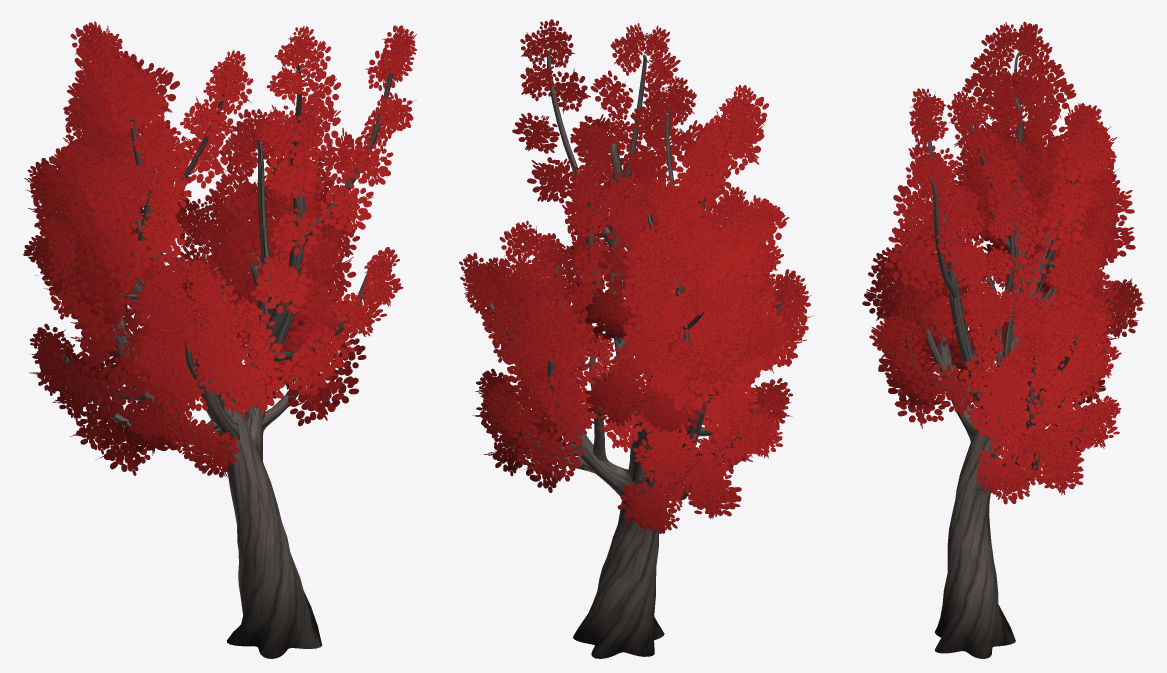
Rendered from twisted_tree.glb.
The picture shows the model from 3 angles, left to right: view 1: azimuth 30°, elevation 25°; view 2: azimuth 150°, elevation 25°; view 3: azimuth 270°, elevation 25°; orthographic projection. The views are drawn at different scales.
Visible parts, largest first — view 1: TwistedTree_2; view 2: TwistedTree_2; view 3: TwistedTree_2.
Part boxes in pixels (x1,y1,x2,y2): TwistedTree_2: [23, 21, 416, 658]; TwistedTree_2: [459, 19, 814, 658]; TwistedTree_2: [862, 21, 1144, 658].
Bounding box in the file's own units: 10.56 × 18.95 × 9.2.
2 materials, 2 textured.
